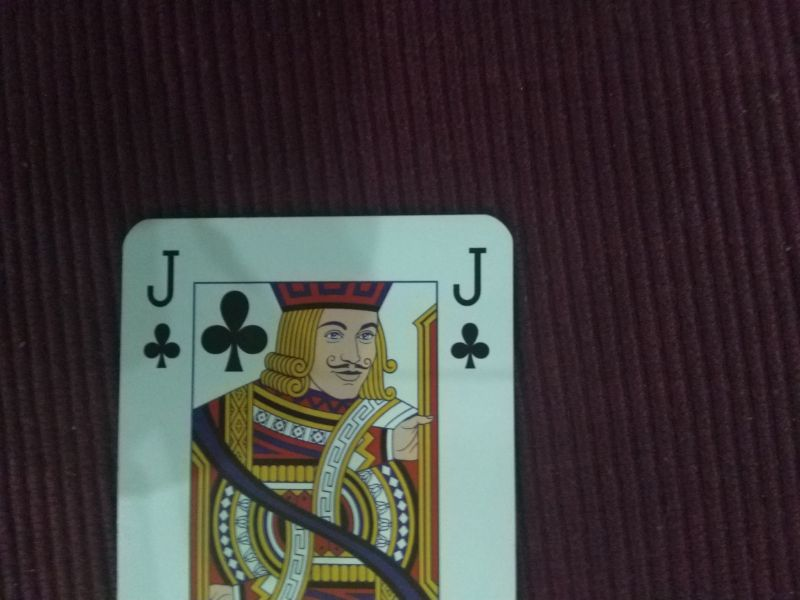Jc: (135, 245, 188, 373), (445, 240, 494, 374)
